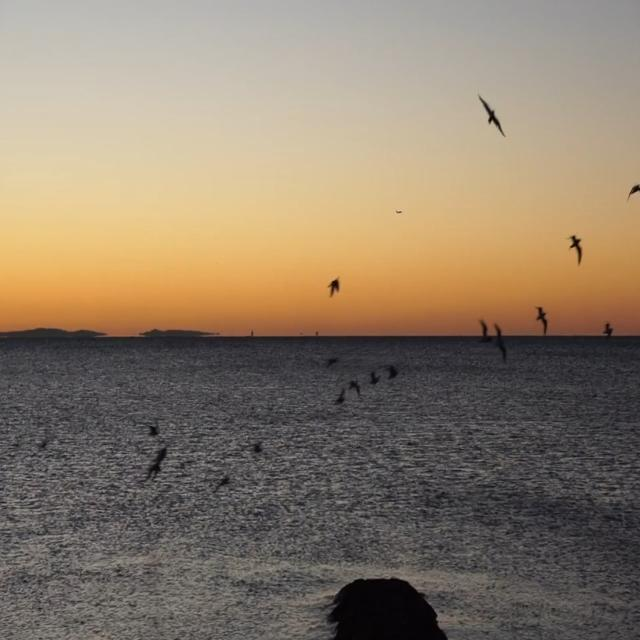bird: (477, 89, 508, 140), (146, 443, 170, 484), (566, 230, 584, 268), (534, 302, 550, 339), (493, 322, 507, 363), (626, 180, 640, 205), (479, 318, 490, 348), (329, 274, 341, 301), (348, 374, 361, 398), (146, 418, 160, 439), (333, 388, 347, 407), (388, 362, 399, 385), (368, 369, 382, 386), (324, 355, 336, 373), (252, 436, 262, 456), (602, 322, 613, 340)
